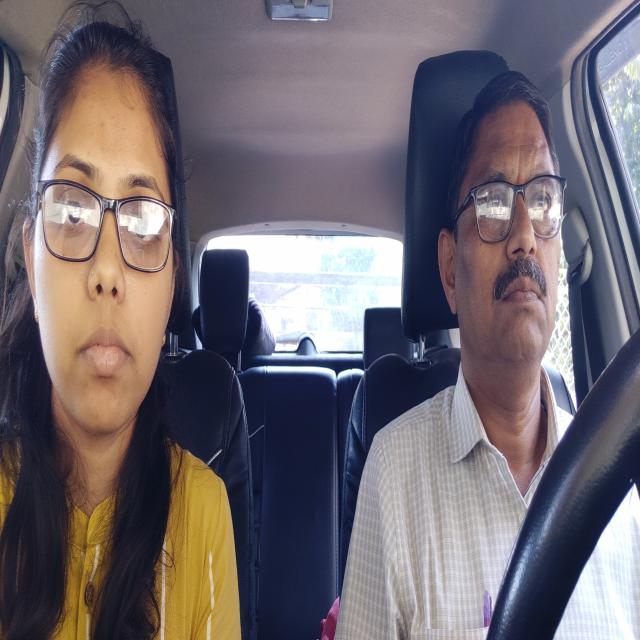person: (18, 13, 181, 420), (438, 69, 566, 413)
